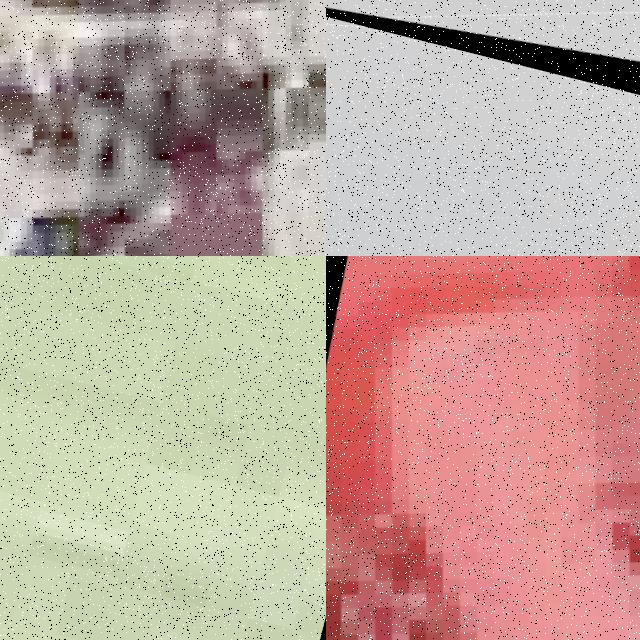drone: (326, 256, 640, 640), (0, 0, 326, 256), (326, 0, 640, 136)
